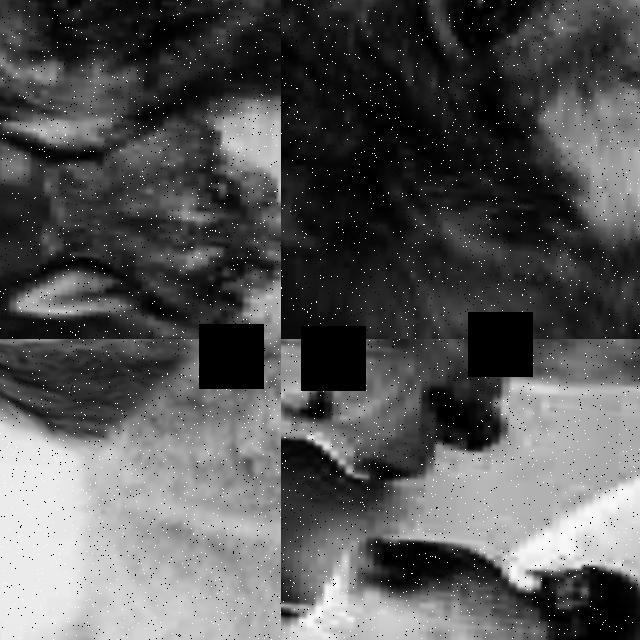dog: (281, 0, 640, 339), (281, 377, 640, 640), (0, 339, 281, 640), (281, 339, 640, 572)
wolf: (0, 29, 281, 339), (0, 0, 281, 246)
